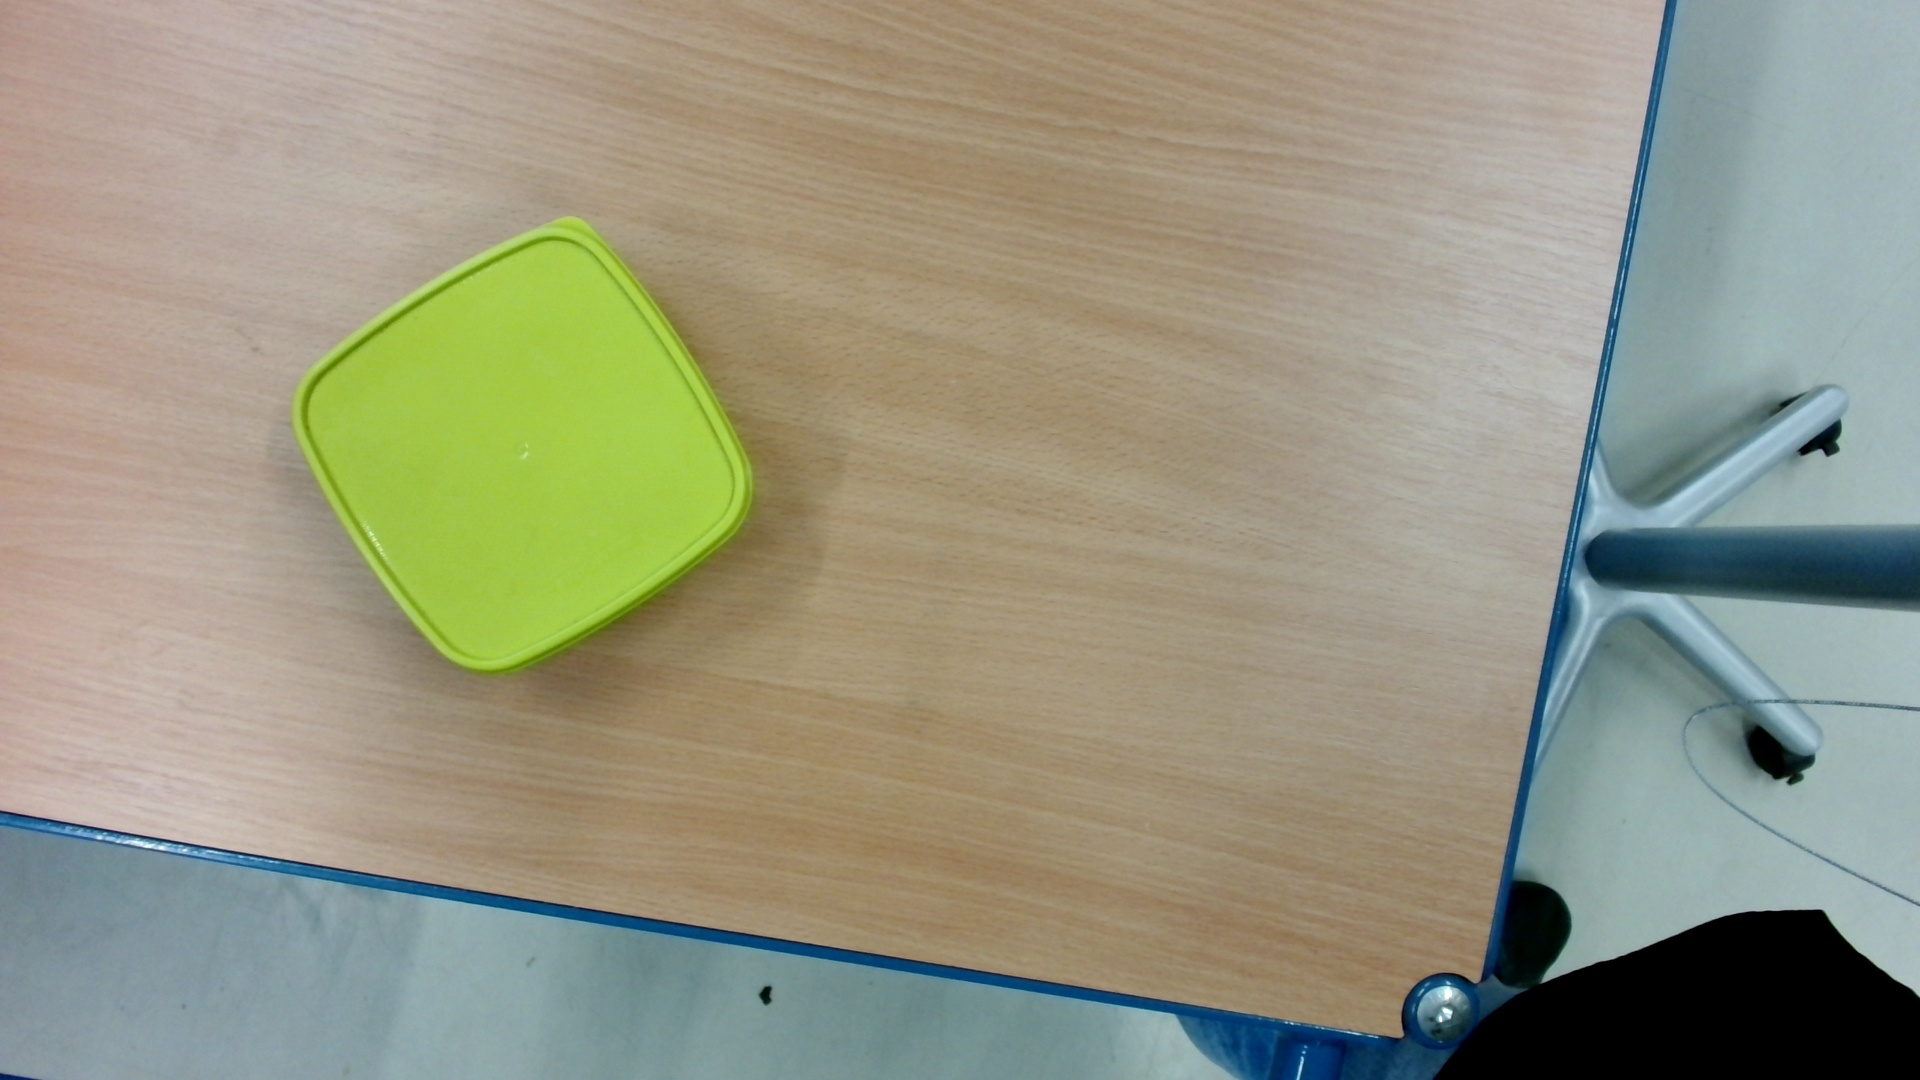Box: (286, 204, 764, 691)
